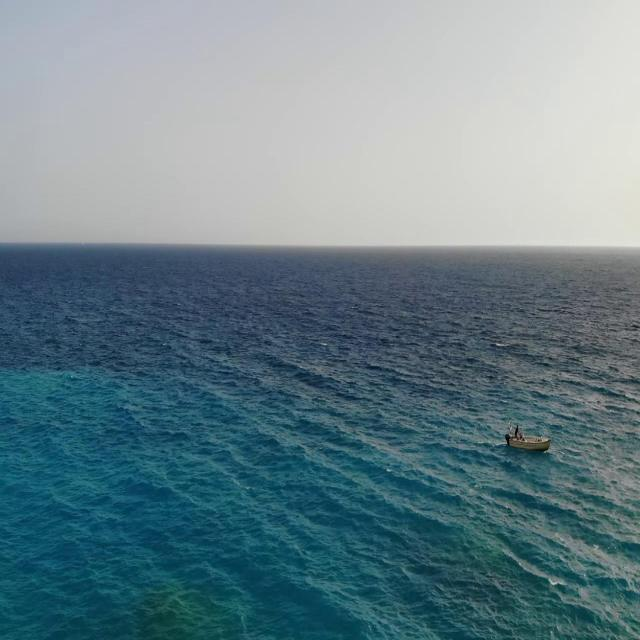boat: (502, 422, 550, 454)
